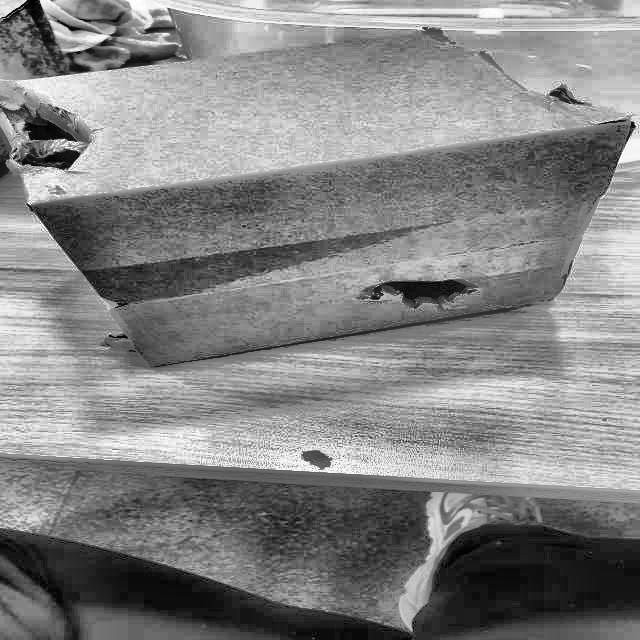box: (0, 20, 639, 374)
hole: (7, 86, 96, 182), (362, 279, 490, 307)
